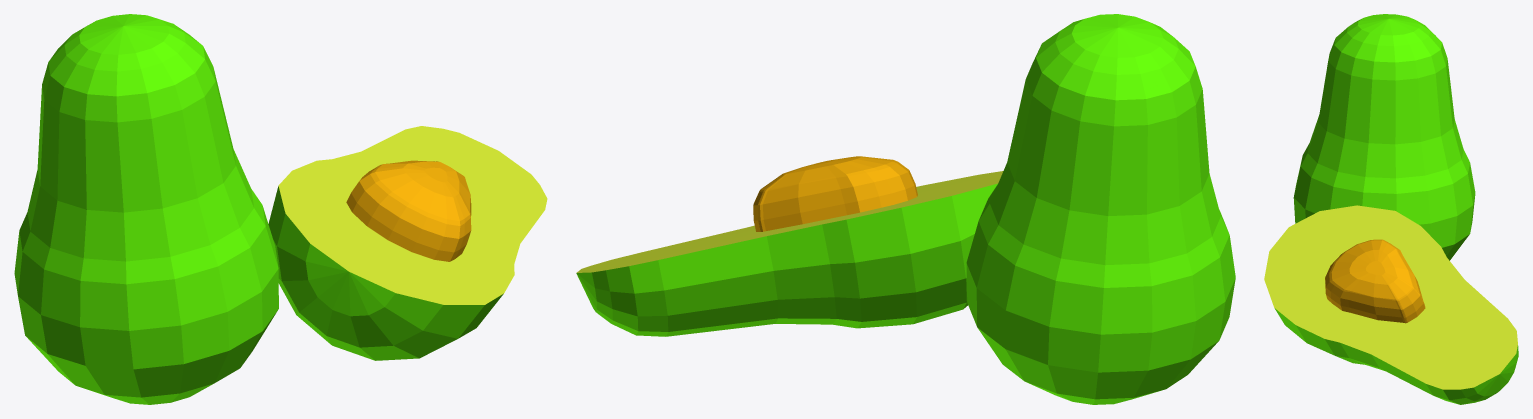
3 views of the same model, side by side, from view 1: azimuth 30°, elevation 25°; view 2: azimuth 150°, elevation 25°; view 3: azimuth 270°, elevation 25° (orthographic). The views are drawn at different scales.
Parts seen in each view (by area): view 1: Sphere002, Object002; view 2: Sphere002, Object002; view 3: Object002, Sphere002.
Boxes of the visible parts, x1,y1,x2,y2 form: Sphere002: [14, 14, 278, 404]; Object002: [268, 126, 547, 360]; Sphere002: [966, 14, 1235, 404]; Object002: [576, 156, 1003, 336]; Object002: [1264, 205, 1518, 404]; Sphere002: [1293, 14, 1475, 260].
Bounding box in the file's own units: 2129300 × 1327928 × 1212766.
